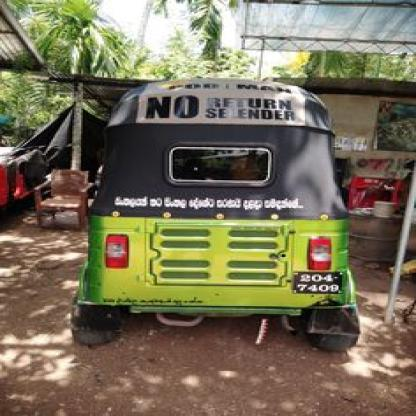number plate: (292, 268, 348, 299)
three wheeler back: (68, 74, 374, 348)
